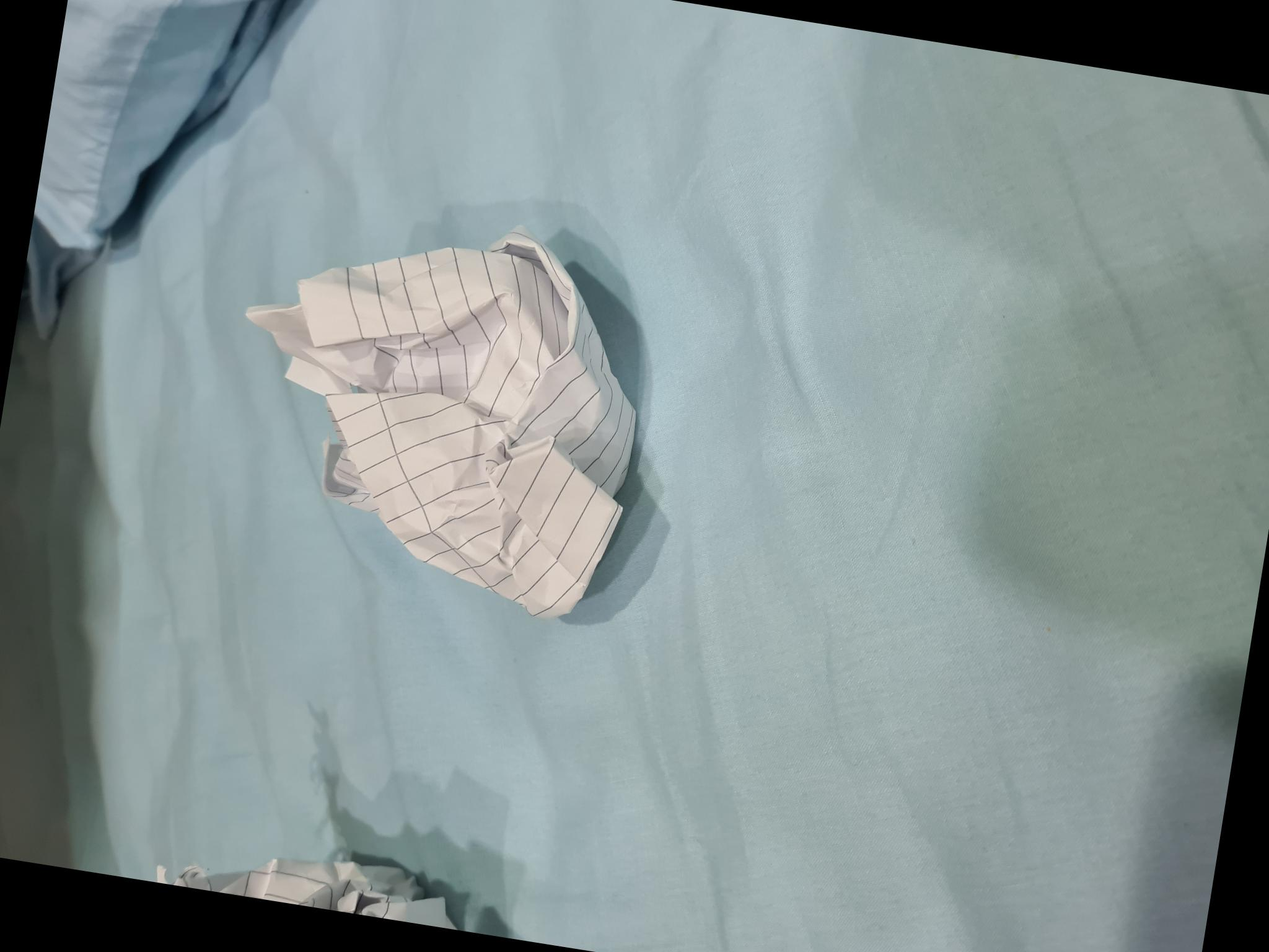Kertas: (301, 181, 732, 644), (311, 220, 700, 609)
